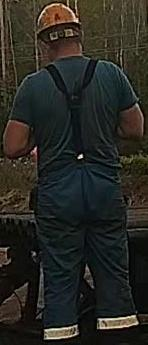helmet: (35, 4, 83, 41)
